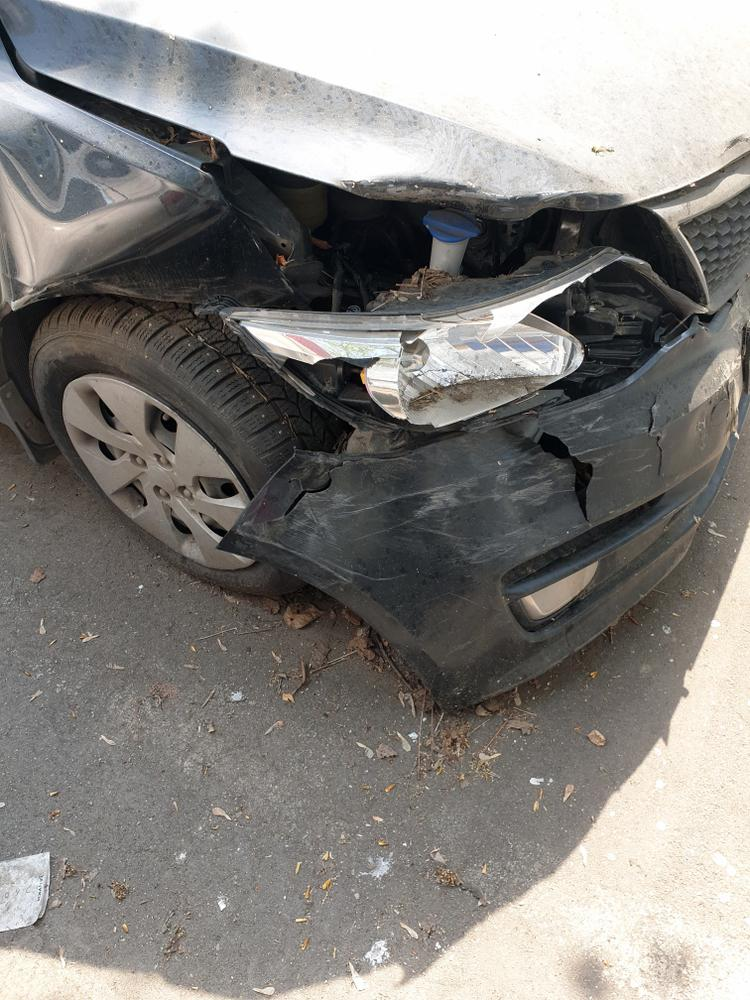crack: (267, 458, 363, 522), (538, 432, 594, 525), (648, 385, 677, 479)
dent: (0, 100, 215, 314)
lamp broken: (226, 255, 694, 441)
scratch: (271, 451, 567, 584), (554, 409, 647, 459)
